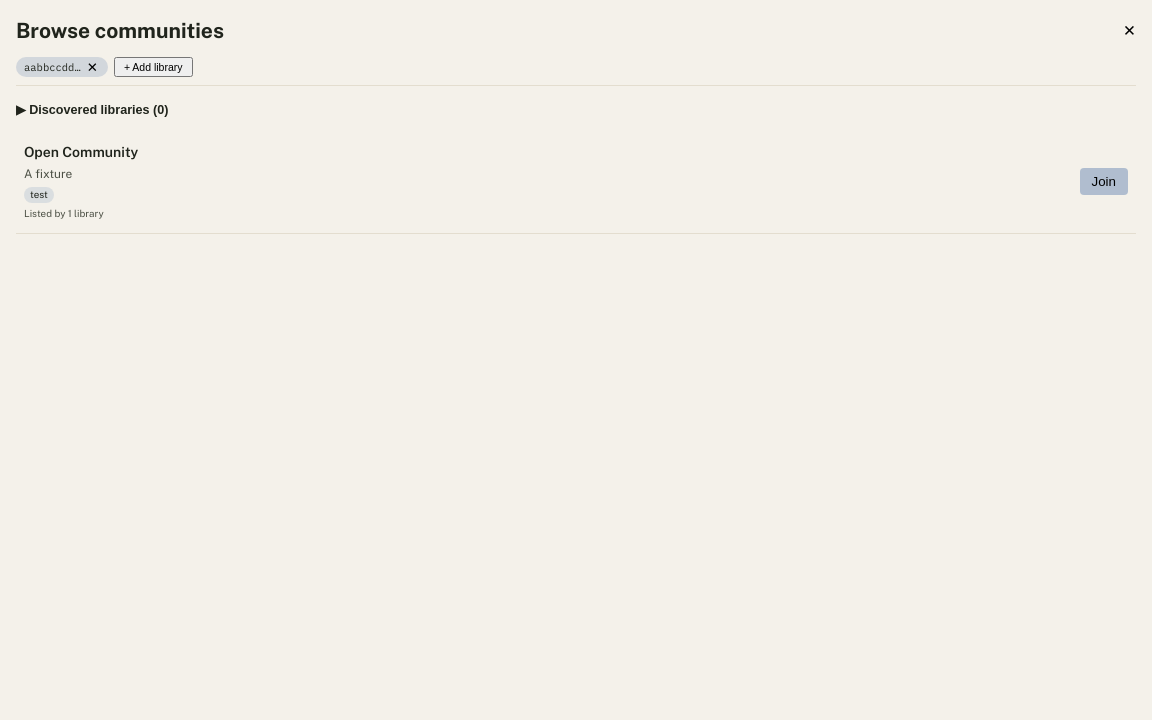
open-community cold-start join (connectivity_open_join_iroh status mapping) › "rejected" renders the distinct blocked banner — NOT the searching spinner
The width and height of the screenshot is (1152, 720).
Click the button "Join" at point(1104, 182), box top-left (1080, 168), bottom-right (1128, 195)
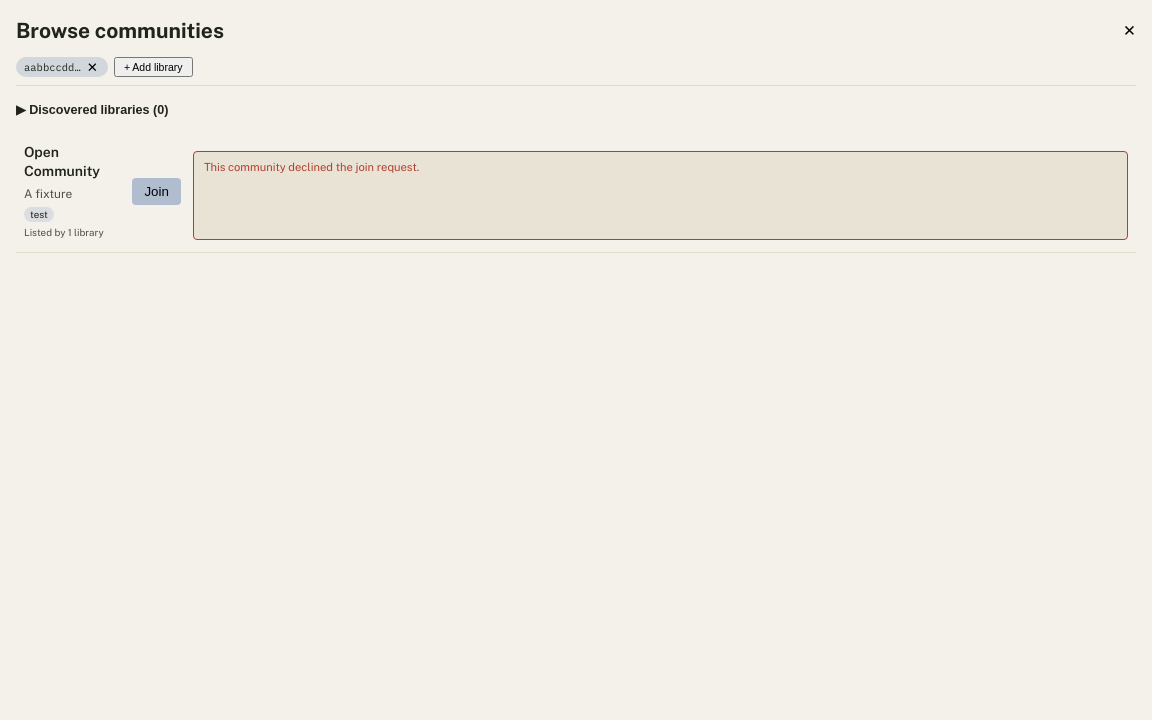
Result: the message "This community declined the join request." is shown at top-left (193, 151), bottom-right (1128, 240)
Result: the message with test id "cold-start-rejected" shows "declined" at top-left (204, 160), bottom-right (419, 174)
